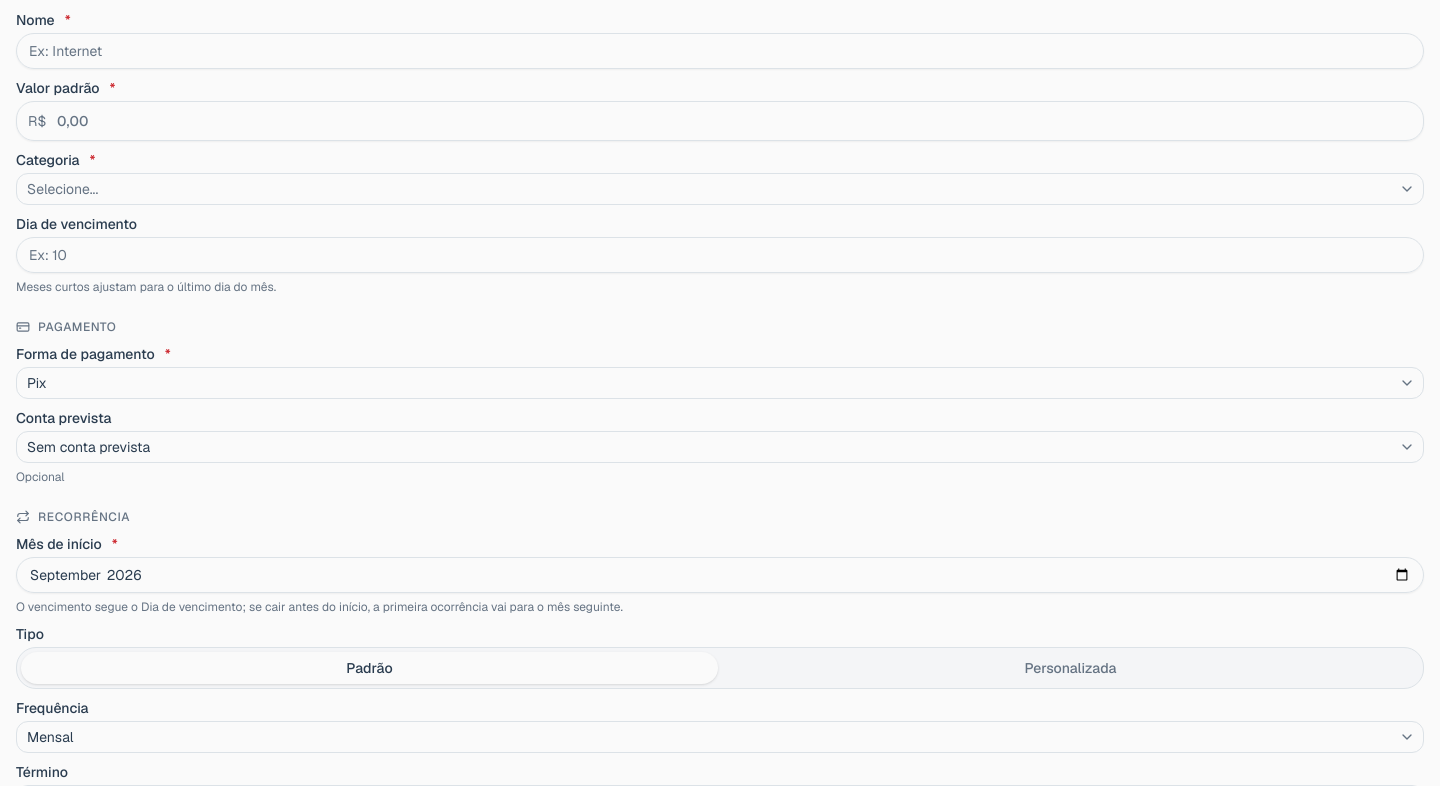
Test: FixedCostForm › monta o preview da recorrência com valor, vencimento e frequência
The width and height of the screenshot is (1440, 786).
Type "120" into the field labelled "Valor padrão *" at (720, 121), box [16,101,1424,141]
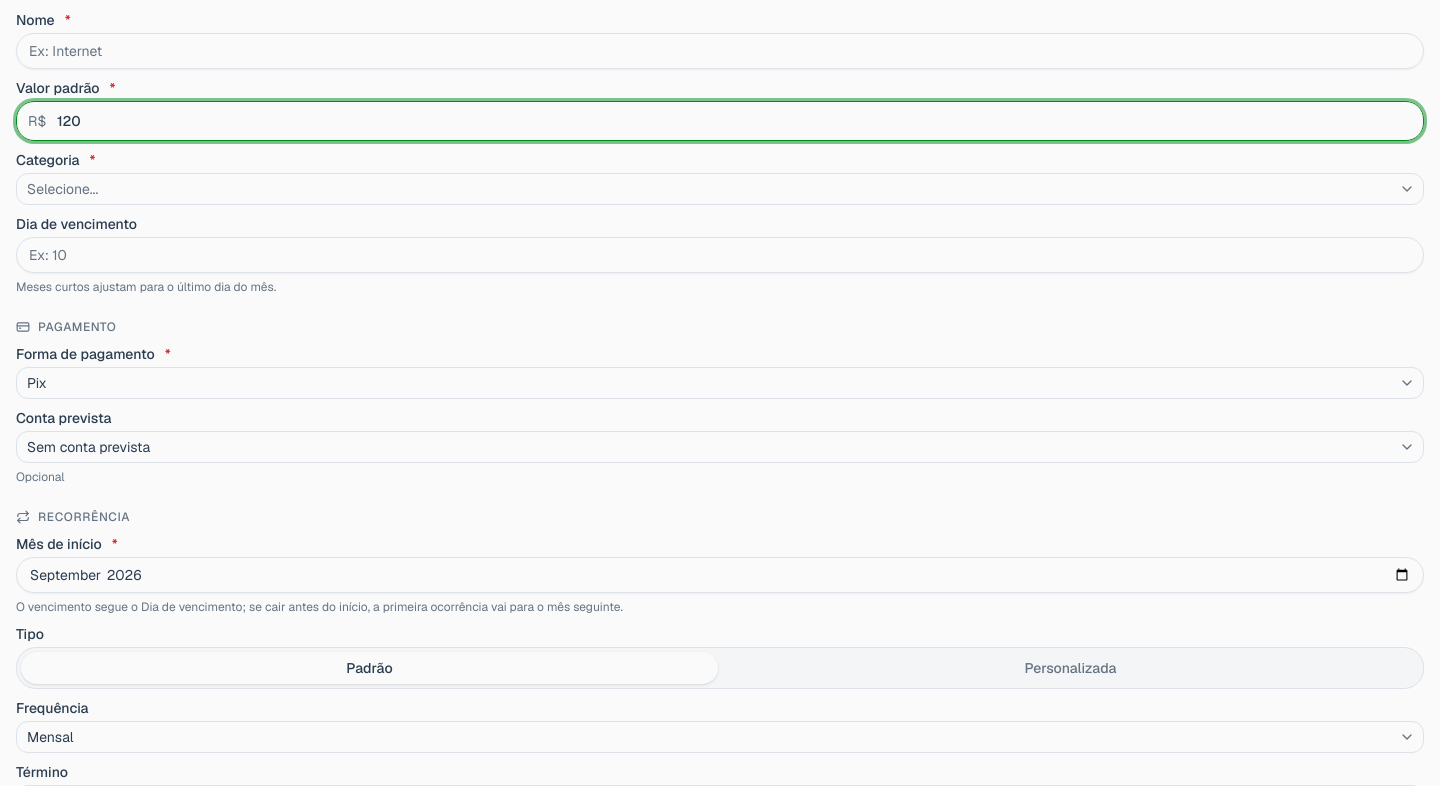
Type "10" into the number field labelled "Dia de vencimento" at (720, 255), box [16,237,1424,273]
(page scrolled)
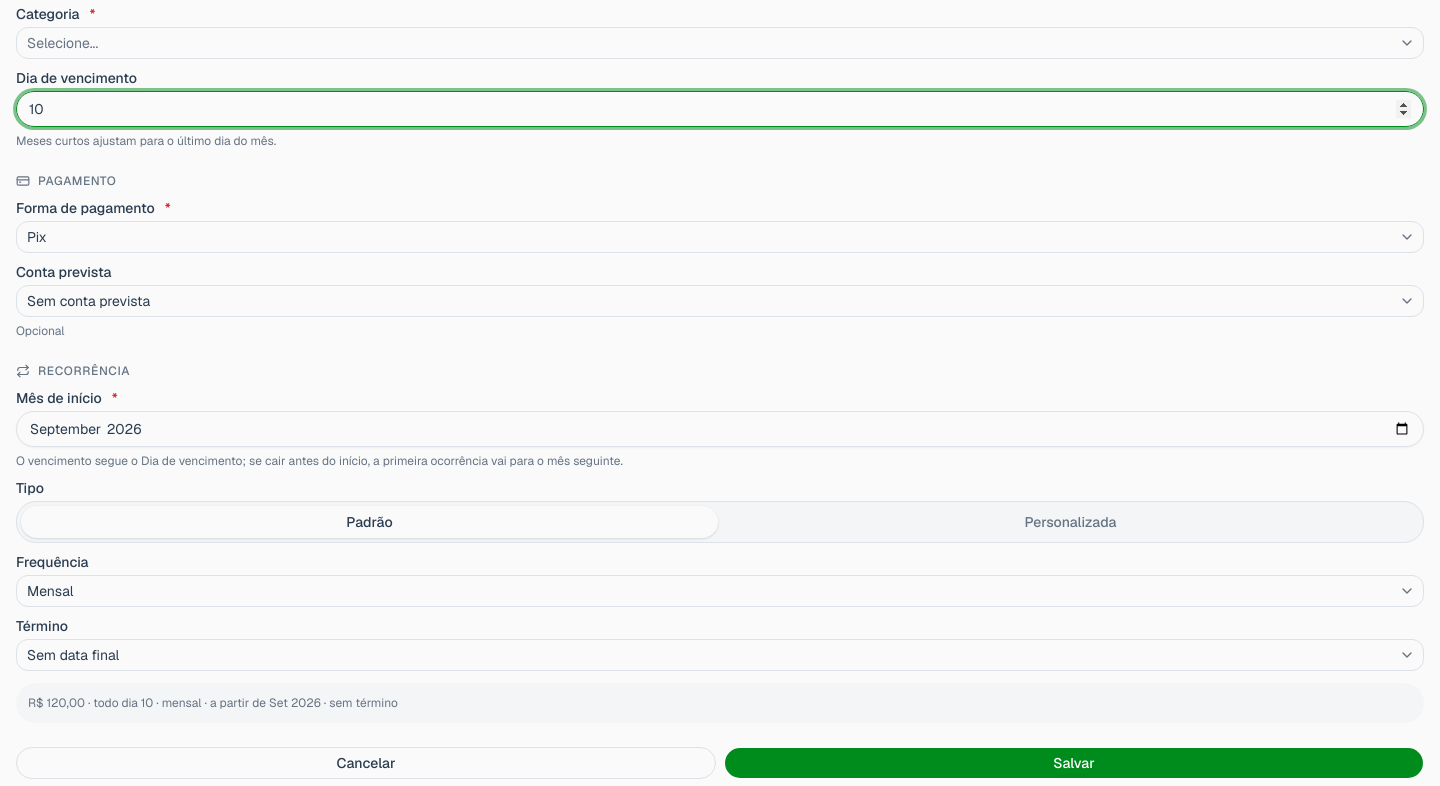
Result: the text "R$ 120,00 · todo dia 10 · mensal · a partir de" is shown at [28,695,398,711]
